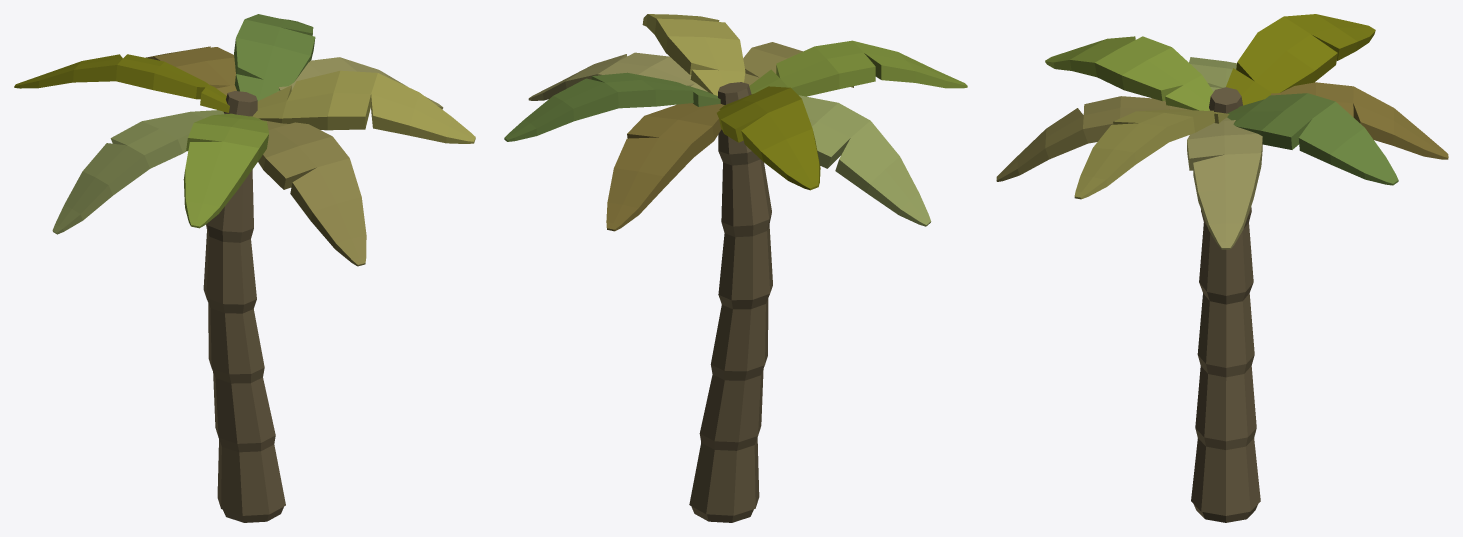
The model's file is Palm Treeeeeeeeeeeee.glb.
3 views of the same model, side by side, from view 1: azimuth 30°, elevation 25°; view 2: azimuth 150°, elevation 25°; view 3: azimuth 270°, elevation 25° (orthographic). The views are drawn at different scales.
Visible parts, largest first — view 1: Cube.001, Cylinder; view 2: Cube.001, Cylinder; view 3: Cube.001, Cylinder.
Part boxes in pixels (box(x1,y1,x2,y2)): Cube.001: box(14, 14, 475, 266); Cylinder: box(203, 91, 285, 522); Cube.001: box(504, 14, 967, 231); Cylinder: box(689, 82, 772, 522); Cube.001: box(996, 14, 1448, 249); Cylinder: box(1191, 87, 1260, 522).
Bounding box in the file's own units: 11.66 × 12.91 × 11.93.
